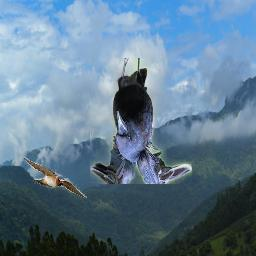Crow: (90, 58, 192, 184)
Swallow: (21, 156, 87, 199)
